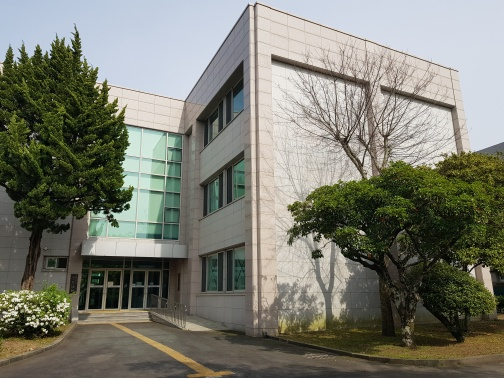College of Nursing: (33, 18, 489, 311)
